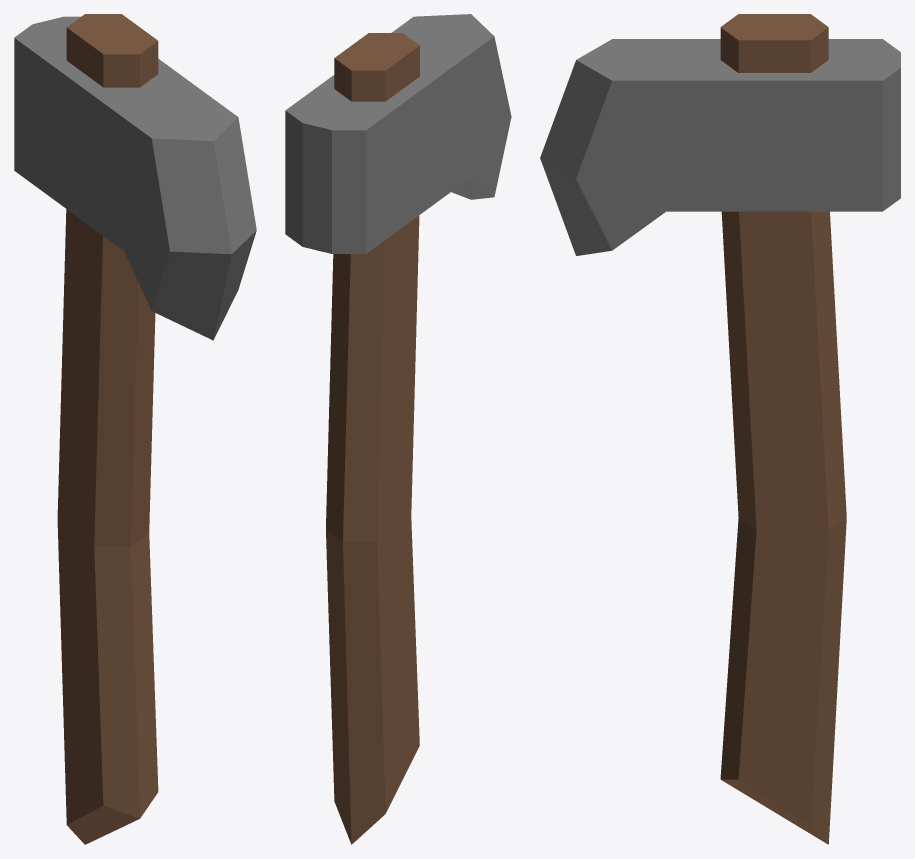
Rendered from Hatchet.fbx.
The picture shows the model from 3 angles, left to right: view 1: azimuth 30°, elevation 25°; view 2: azimuth 150°, elevation 25°; view 3: azimuth 270°, elevation 25°; orthographic projection. The views are drawn at different scales.
Parts seen in each view (by area): view 1: Hatchet; view 2: Hatchet; view 3: Hatchet.
Part boxes in pixels (x1,y1,x2,y2): Hatchet: [14, 14, 256, 844]; Hatchet: [285, 14, 511, 844]; Hatchet: [540, 14, 900, 844].
Size of the model in its own units: 0.082 by 0.75 by 0.3.
